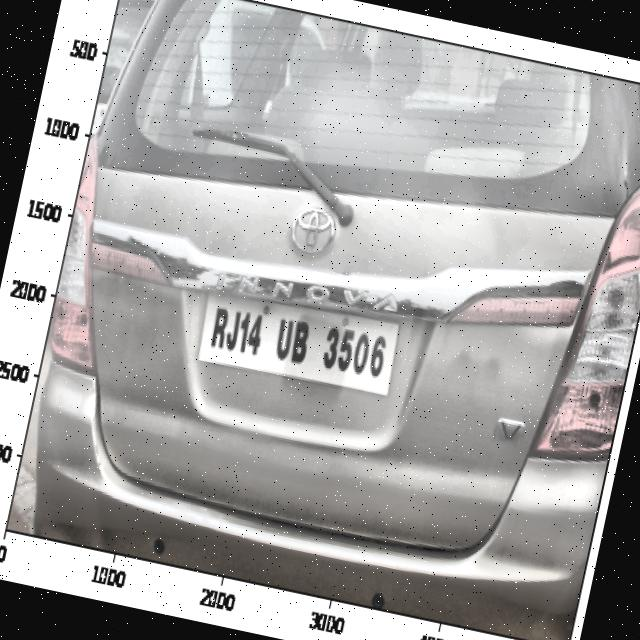license_plate: (194, 290, 398, 393)
